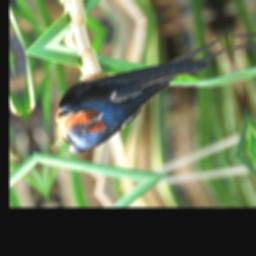Swallow: (43, 37, 243, 160)
